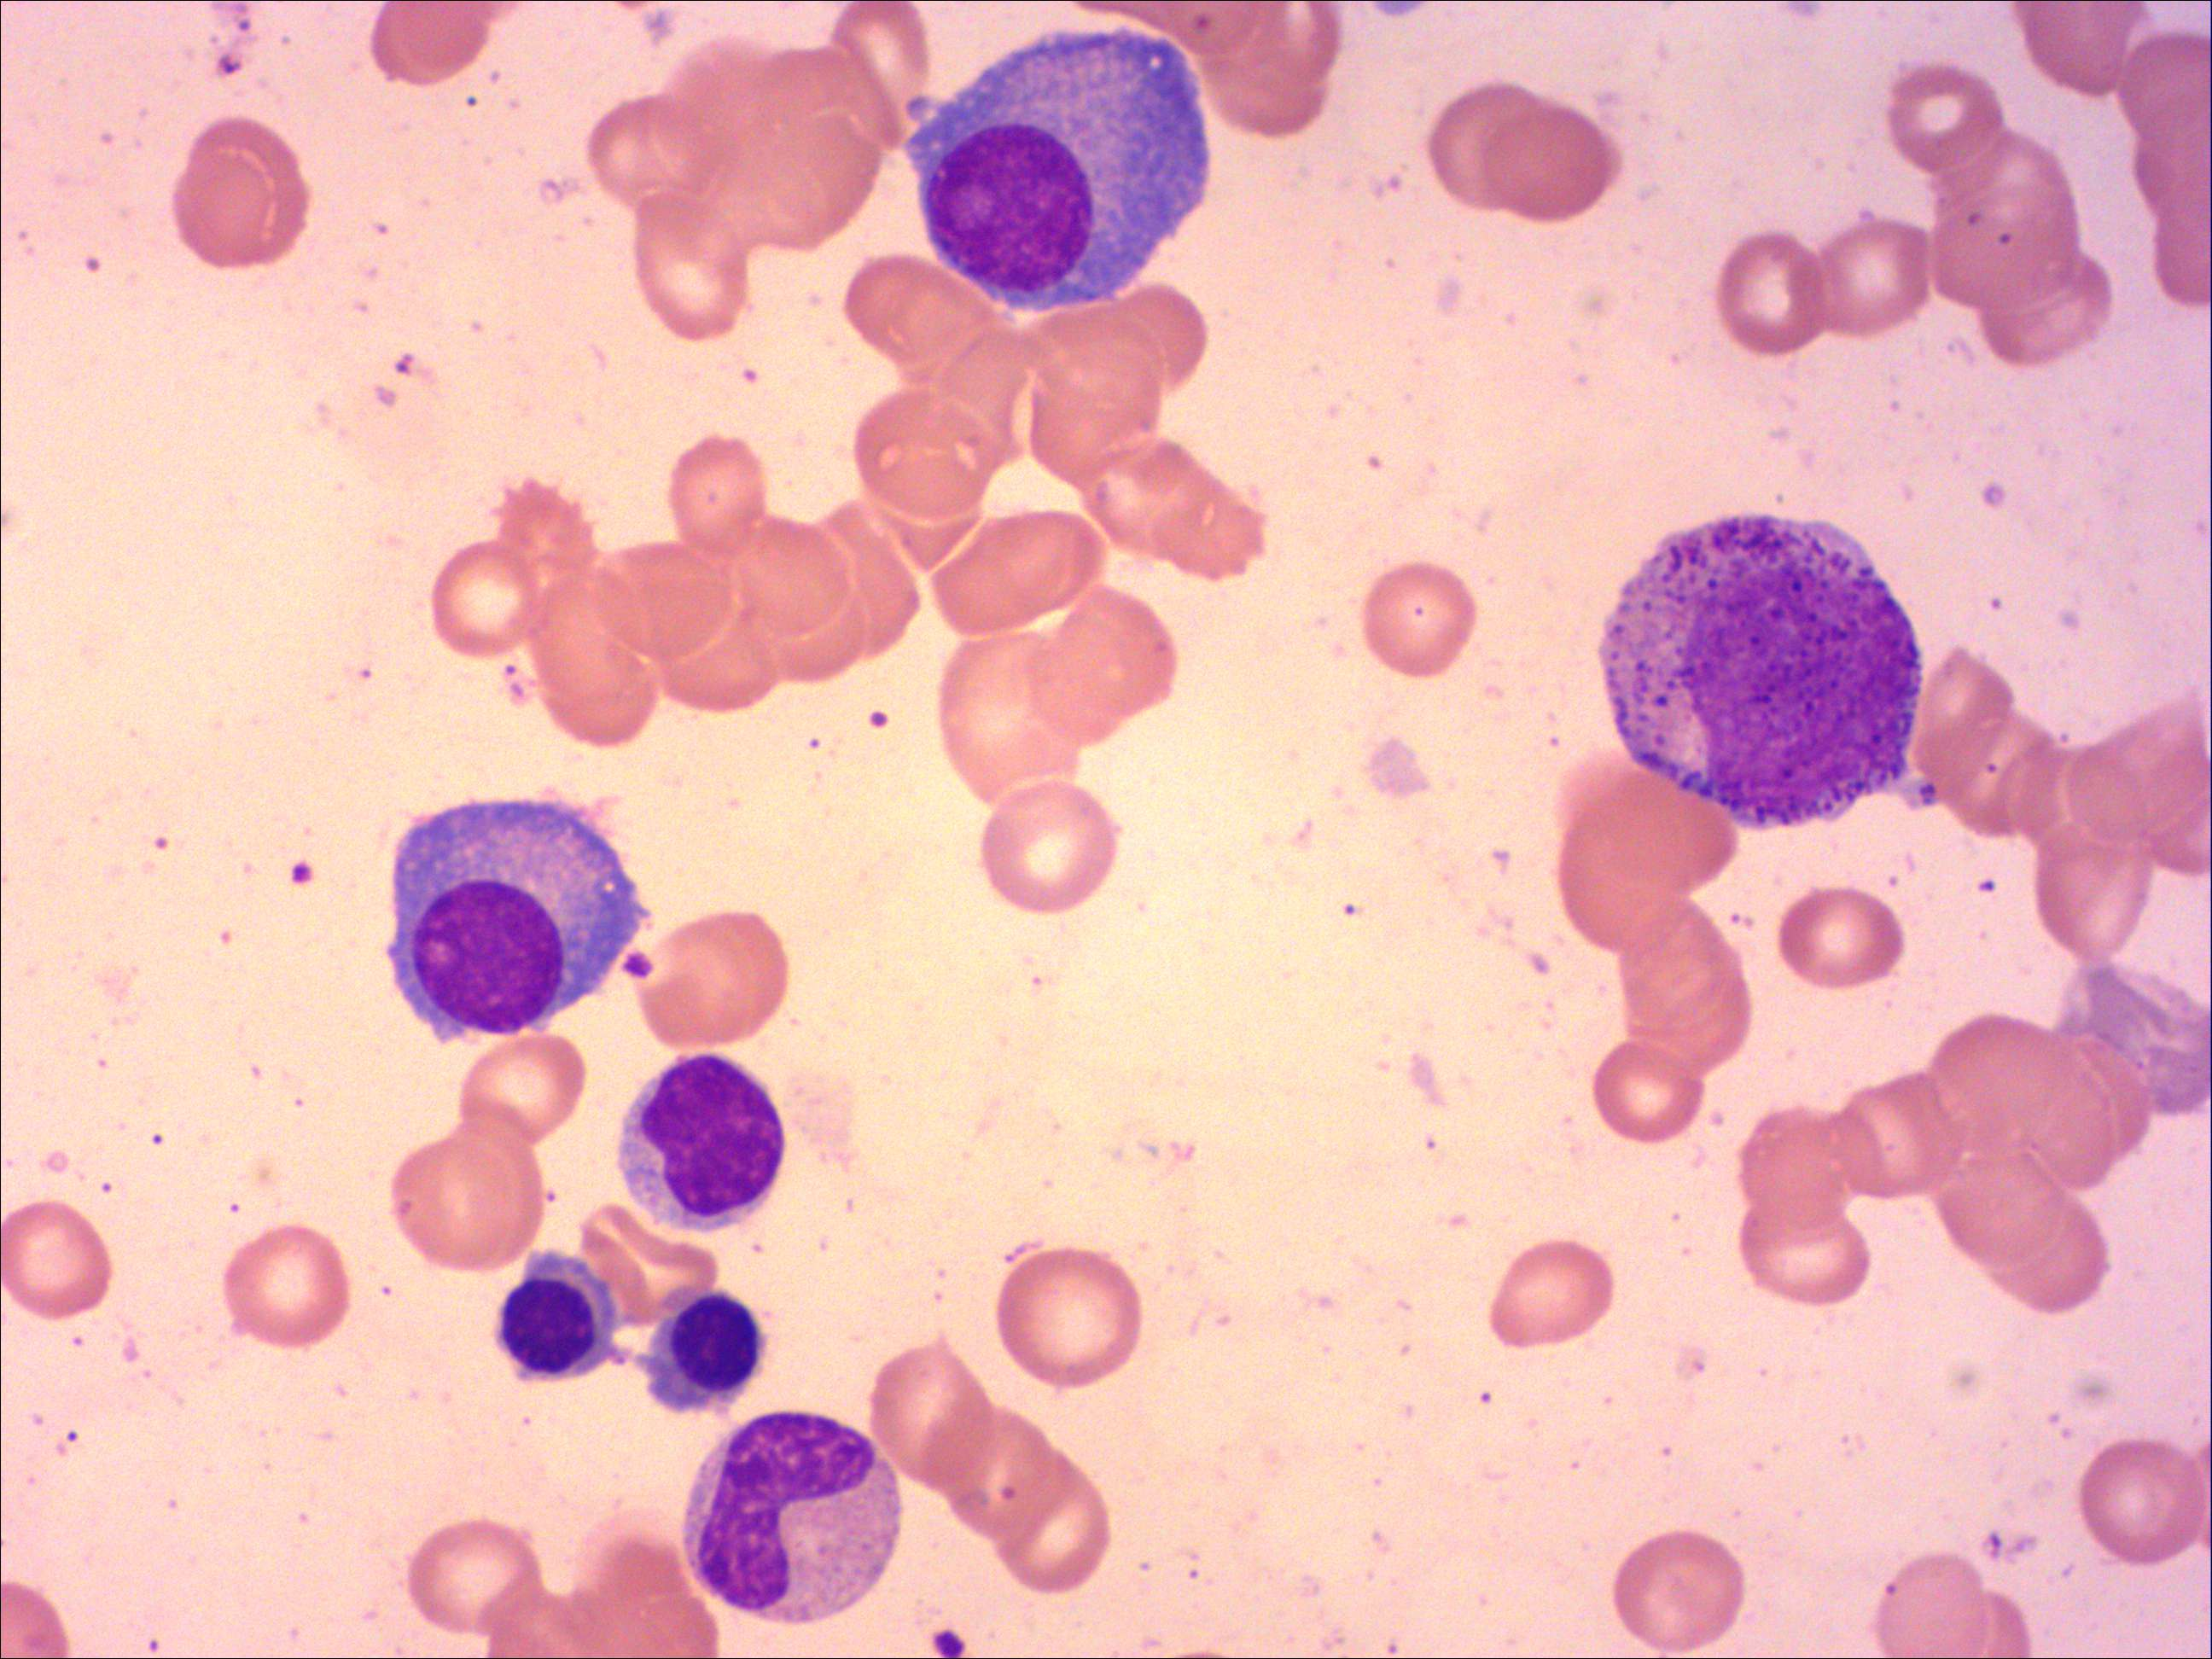24: (632, 1284, 773, 1422), (493, 1243, 627, 1387)
3: (1590, 509, 1930, 840)
32: (611, 1049, 791, 1241)
51: (900, 21, 1216, 321), (378, 796, 651, 1051)
x: (679, 1410, 906, 1629)
